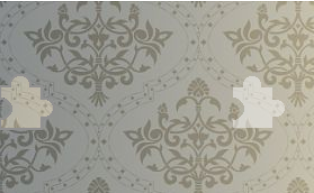target: (232, 70, 288, 133)
